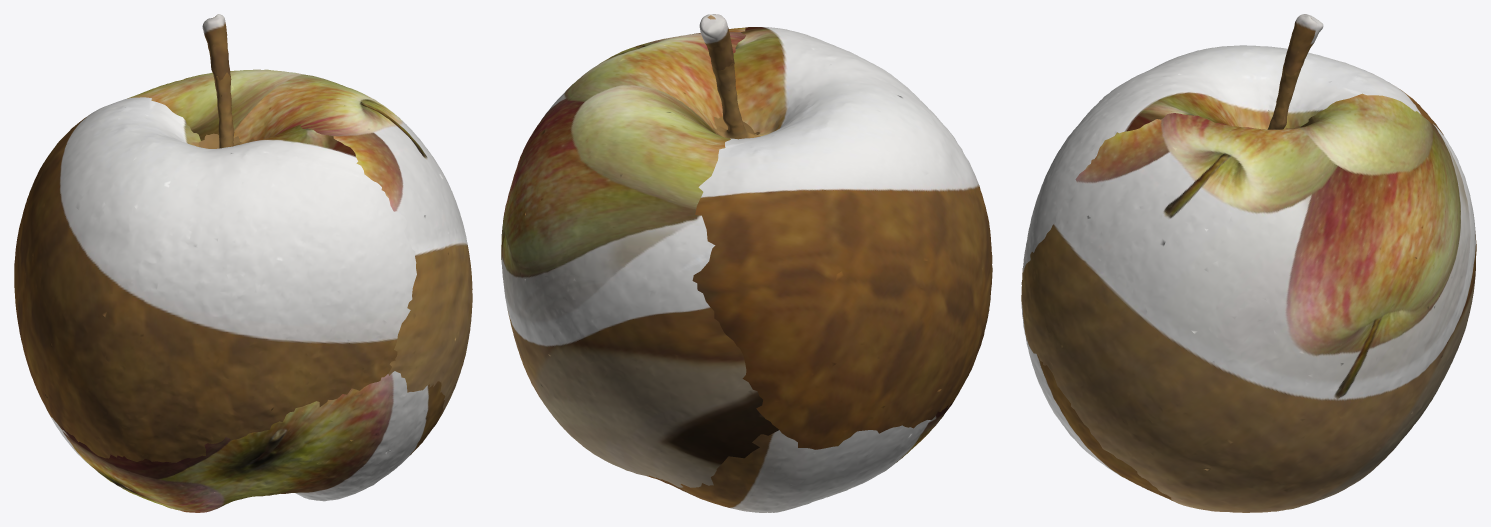
File: Apfel.fbx
3 renders of one model, left to right at view 1: azimuth 30°, elevation 25°; view 2: azimuth 150°, elevation 25°; view 3: azimuth 270°, elevation 25°, orthographic. The views are drawn at different scales.
Parts seen in each view (by area): view 1: Apfel; view 2: Apfel; view 3: Apfel.
Part boxes in pixels (<box>): Apfel: <box>14,14,472,512</box>; Apfel: <box>501,14,992,512</box>; Apfel: <box>1021,14,1476,512</box>.
Bounding box in the file's own units: 171 × 181 × 164.
1 material, 1 textured.
